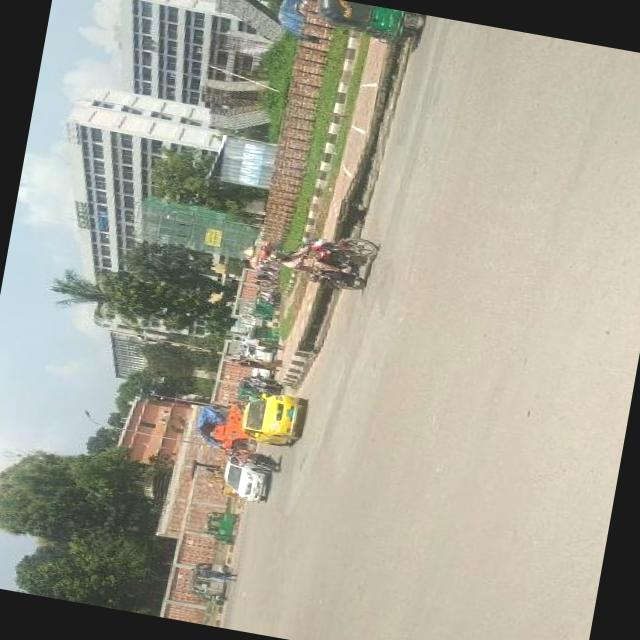car: (236, 384, 309, 449), (218, 454, 268, 502)
motorcycle: (294, 226, 379, 294), (312, 0, 421, 46), (187, 556, 232, 598), (198, 506, 240, 542), (242, 448, 284, 472), (232, 379, 257, 401), (248, 320, 276, 339), (250, 302, 272, 318)
